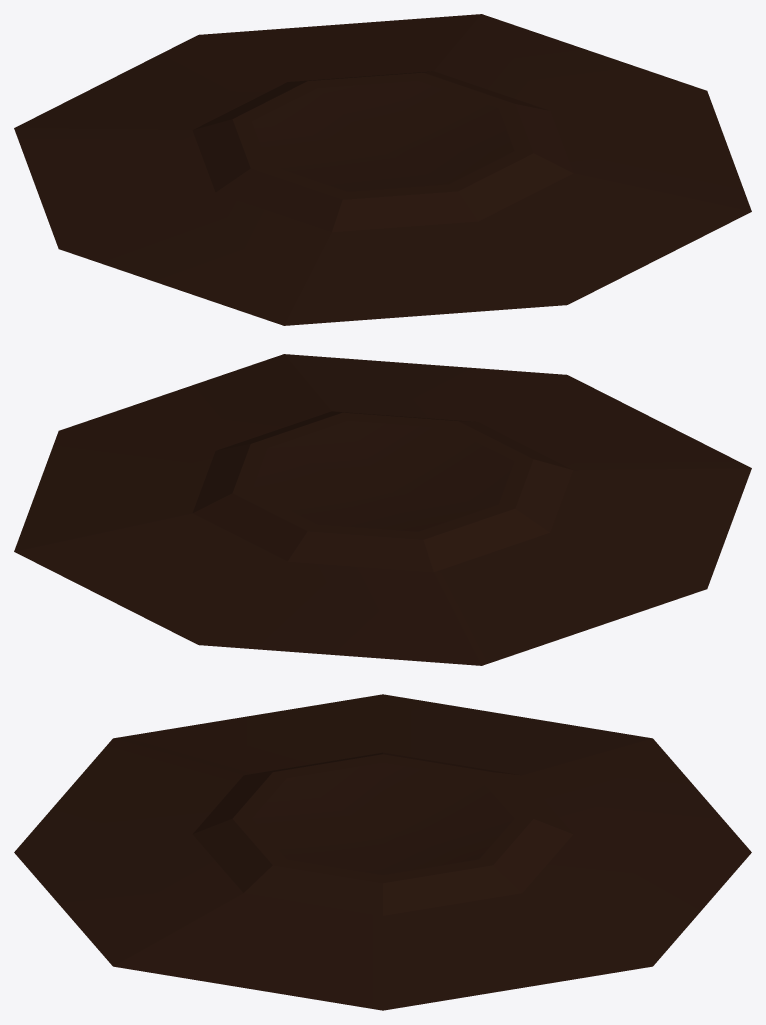
The model's file is Mound.fbx.
The picture shows the model from 3 angles, top to bottom: view 1: azimuth 30°, elevation 25°; view 2: azimuth 150°, elevation 25°; view 3: azimuth 270°, elevation 25°; orthographic projection.
Visible parts, largest first — view 1: Mound001; view 2: Mound001; view 3: Mound001.
Boxes of the visible parts, x1,y1,x2,y2 form: Mound001: (14,14,751,325); Mound001: (14,354,751,665); Mound001: (14,694,751,1010).
Size of the model in its own units: 195 by 9.67 by 192.
